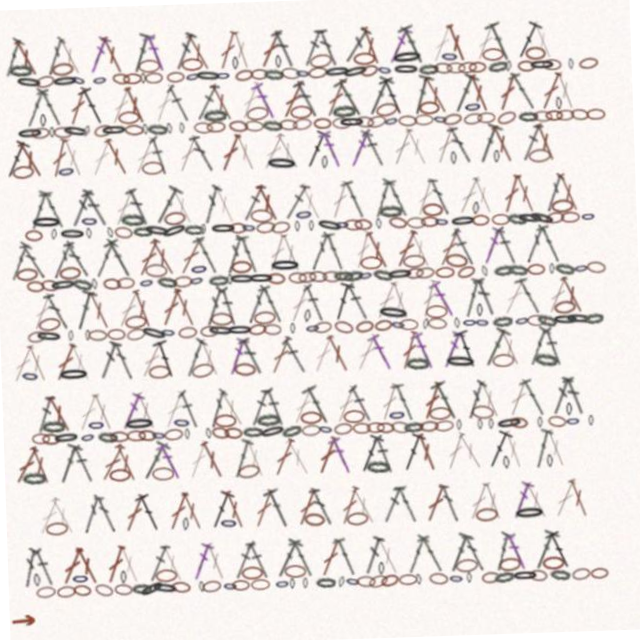chain: (129, 573, 158, 593), (377, 307, 410, 324), (163, 217, 192, 235), (139, 319, 168, 337), (531, 217, 559, 235), (400, 53, 432, 68), (271, 155, 303, 170), (443, 359, 475, 374), (350, 65, 378, 81), (319, 218, 347, 234), (120, 411, 152, 425), (255, 422, 283, 438), (507, 513, 539, 527), (68, 116, 96, 131), (146, 218, 174, 233), (34, 207, 66, 220), (271, 258, 303, 271), (56, 360, 88, 373), (189, 358, 213, 375), (532, 359, 557, 375), (23, 66, 51, 80), (142, 576, 170, 590), (382, 104, 406, 120), (232, 461, 256, 477), (318, 53, 341, 69), (447, 257, 470, 273), (492, 423, 520, 436), (536, 320, 558, 336), (277, 422, 299, 438), (203, 66, 230, 79), (332, 66, 359, 79), (520, 219, 547, 232), (51, 270, 78, 283), (35, 321, 62, 334), (207, 321, 234, 334), (565, 321, 592, 334), (49, 423, 76, 436), (253, 104, 276, 119), (17, 155, 40, 170), (167, 206, 190, 221), (38, 308, 61, 323), (554, 308, 577, 323), (468, 410, 491, 425), (447, 563, 470, 578), (490, 563, 513, 578), (210, 105, 234, 119), (339, 105, 363, 119), (503, 116, 524, 132), (333, 320, 354, 336), (253, 411, 277, 425), (359, 575, 380, 591), (297, 512, 319, 527), (60, 67, 87, 79), (23, 118, 50, 130), (62, 220, 89, 232), (453, 220, 480, 232), (388, 271, 415, 283), (552, 322, 579, 334), (60, 54, 83, 68), (232, 360, 255, 374), (458, 269, 478, 285), (85, 575, 105, 591), (43, 65, 64, 80), (496, 65, 517, 80), (373, 116, 394, 131), (73, 269, 94, 284), (17, 54, 41, 67), (124, 207, 148, 220), (382, 207, 406, 220), (404, 360, 428, 373), (38, 411, 62, 424), (17, 462, 41, 475), (361, 462, 385, 475), (534, 156, 556, 170), (254, 207, 276, 221), (555, 207, 577, 221), (18, 258, 40, 272), (61, 258, 83, 272), (147, 258, 169, 272), (125, 309, 147, 323), (211, 309, 233, 323), (254, 309, 276, 323), (39, 513, 61, 527), (340, 513, 362, 527), (469, 513, 491, 527), (368, 65, 388, 80), (100, 116, 120, 131), (391, 218, 411, 233), (207, 422, 227, 437), (371, 575, 391, 590), (401, 67, 428, 78), (537, 67, 564, 78), (107, 118, 134, 129), (345, 118, 372, 129), (213, 220, 240, 231), (230, 271, 257, 282), (249, 271, 276, 282), (226, 322, 253, 333), (503, 577, 530, 588), (158, 270, 179, 284), (344, 270, 365, 284), (374, 270, 395, 284), (556, 270, 577, 284), (485, 576, 506, 590), (147, 54, 169, 67), (190, 54, 212, 67), (362, 54, 384, 67), (491, 54, 513, 67), (125, 105, 147, 118), (297, 105, 319, 118), (147, 156, 169, 169), (362, 258, 384, 271), (405, 258, 427, 271), (426, 309, 448, 322), (147, 360, 169, 373), (491, 360, 513, 373), (211, 411, 233, 424), (297, 411, 319, 424), (340, 411, 362, 424), (426, 411, 448, 424), (104, 462, 126, 475), (147, 462, 169, 475), (147, 564, 169, 577), (233, 564, 255, 577), (276, 564, 298, 577), (534, 564, 556, 577), (19, 359, 38, 374), (449, 117, 469, 131), (470, 117, 490, 131), (274, 219, 294, 233), (126, 321, 146, 335), (387, 423, 407, 437), (534, 54, 555, 67), (426, 105, 447, 118), (426, 207, 447, 220), (510, 219, 531, 232), (233, 258, 254, 271), (495, 270, 516, 283), (509, 270, 530, 283), (492, 321, 513, 334), (583, 321, 604, 334), (541, 576, 562, 589), (449, 54, 468, 68), (243, 66, 262, 80), (62, 156, 81, 170), (298, 207, 317, 221), (117, 219, 136, 233), (355, 321, 374, 335), (169, 411, 188, 425), (289, 66, 309, 79), (316, 66, 336, 79), (466, 66, 486, 79), (587, 66, 607, 79), (235, 117, 255, 130), (299, 117, 319, 130), (259, 219, 279, 232), (417, 270, 437, 283), (588, 270, 608, 283), (427, 321, 447, 334), (160, 423, 180, 436), (162, 576, 182, 589), (193, 576, 213, 589), (420, 576, 440, 589), (78, 65, 95, 80), (471, 105, 489, 119), (192, 258, 210, 272), (213, 513, 231, 527), (120, 66, 139, 79), (442, 66, 461, 79), (362, 117, 381, 130), (577, 117, 596, 130), (549, 219, 568, 232), (42, 270, 61, 283), (310, 270, 329, 283), (407, 270, 426, 283), (27, 321, 46, 334), (248, 321, 267, 334), (313, 321, 332, 334), (374, 321, 393, 334), (134, 423, 153, 436), (330, 423, 349, 436), (506, 423, 525, 436), (544, 423, 563, 436), (64, 576, 83, 589), (520, 576, 539, 589), (563, 576, 582, 589), (272, 67, 292, 79), (427, 67, 447, 79), (154, 118, 174, 130), (200, 118, 220, 130), (269, 118, 289, 130), (210, 271, 230, 283), (94, 424, 114, 436), (400, 424, 420, 436), (27, 577, 47, 589), (84, 207, 102, 220), (84, 411, 102, 424), (385, 411, 403, 424), (63, 564, 81, 577), (60, 118, 79, 130), (131, 118, 150, 130), (251, 118, 270, 130), (339, 118, 358, 130), (405, 118, 424, 130), (540, 118, 559, 130), (347, 220, 366, 232), (357, 220, 376, 232), (410, 220, 429, 232), (104, 271, 123, 283), (175, 271, 194, 283), (268, 271, 287, 283), (324, 271, 343, 283), (88, 322, 107, 334), (178, 322, 197, 334), (106, 424, 125, 436), (220, 424, 239, 436), (298, 424, 317, 436), (416, 424, 435, 436), (431, 424, 450, 436), (48, 577, 67, 589), (105, 577, 124, 589), (348, 577, 367, 589), (525, 118, 545, 129), (136, 220, 156, 231), (187, 220, 207, 231), (335, 271, 355, 282), (239, 424, 259, 435), (123, 577, 143, 588), (307, 577, 327, 588), (526, 67, 544, 79), (38, 118, 56, 130), (286, 118, 304, 130), (28, 220, 46, 232), (28, 271, 46, 283), (290, 271, 308, 283), (300, 271, 318, 283), (263, 322, 281, 334), (38, 424, 56, 436), (373, 424, 391, 436), (473, 577, 491, 589), (131, 67, 150, 78), (455, 67, 474, 78), (551, 67, 570, 78), (213, 118, 232, 129), (421, 118, 440, 129), (593, 118, 612, 129), (564, 220, 583, 231), (437, 271, 456, 282), (399, 322, 418, 333), (527, 322, 546, 333), (123, 424, 142, 435), (242, 577, 261, 588), (390, 577, 409, 588), (193, 66, 209, 79), (385, 66, 401, 79), (390, 117, 406, 130), (439, 117, 455, 130), (244, 219, 260, 232), (190, 270, 206, 283), (160, 321, 176, 334), (390, 321, 406, 334), (514, 321, 530, 334), (76, 423, 92, 436), (314, 423, 330, 436), (336, 576, 352, 589), (153, 67, 171, 78), (175, 67, 193, 78), (259, 67, 277, 78), (477, 67, 495, 78), (320, 118, 338, 129), (484, 118, 502, 129), (552, 118, 570, 129), (563, 118, 581, 129), (232, 220, 250, 231), (424, 220, 442, 231), (475, 220, 493, 231), (495, 220, 513, 231), (118, 271, 136, 282), (529, 271, 547, 282), (107, 322, 125, 333), (200, 322, 218, 333), (28, 424, 46, 435), (349, 424, 367, 435), (363, 424, 381, 435), (223, 577, 241, 588), (582, 577, 600, 588), (100, 67, 116, 79), (303, 67, 319, 79), (437, 220, 453, 232), (140, 271, 156, 283), (359, 271, 375, 283), (575, 271, 591, 283), (474, 322, 490, 334), (147, 424, 163, 436), (305, 322, 320, 334), (214, 577, 229, 589), (440, 577, 455, 589), (224, 67, 239, 78), (338, 220, 353, 231), (584, 220, 599, 231), (462, 322, 477, 333), (562, 424, 577, 435), (266, 577, 281, 588), (476, 207, 483, 220), (304, 309, 311, 322), (498, 462, 505, 475), (25, 564, 32, 577), (89, 118, 97, 129), (241, 54, 247, 67), (284, 54, 290, 67), (47, 105, 53, 118), (563, 105, 569, 118), (327, 156, 333, 169), (456, 156, 462, 169), (499, 156, 505, 169), (477, 309, 483, 322), (563, 411, 569, 424), (542, 462, 548, 475), (176, 513, 182, 526), (112, 564, 118, 577), (370, 564, 376, 577), (110, 220, 117, 231), (483, 271, 490, 282), (422, 322, 429, 333), (329, 577, 336, 588), (514, 67, 520, 78), (149, 118, 155, 129), (173, 118, 179, 129), (54, 220, 60, 231), (89, 220, 95, 231), (379, 220, 385, 231), (93, 271, 99, 282), (454, 322, 460, 333), (202, 424, 208, 435), (190, 577, 196, 588), (407, 577, 413, 588), (149, 67, 154, 78), (577, 67, 582, 78), (56, 118, 61, 129), (186, 118, 191, 129), (204, 220, 209, 231), (298, 220, 303, 231), (312, 220, 317, 231), (229, 271, 234, 282), (551, 271, 556, 282), (68, 322, 73, 333), (85, 322, 90, 333), (290, 322, 295, 333), (181, 424, 186, 435), (453, 424, 458, 435), (474, 424, 479, 435), (485, 424, 490, 435), (534, 424, 539, 435), (585, 424, 590, 435), (281, 577, 286, 588), (294, 577, 299, 588), (458, 577, 463, 588)
double: (341, 78, 374, 120), (155, 180, 188, 222), (134, 435, 167, 477), (371, 78, 403, 120), (106, 231, 138, 273), (479, 333, 511, 375), (299, 384, 331, 426), (264, 537, 296, 579), (407, 27, 438, 69), (522, 27, 553, 69), (457, 78, 488, 120), (307, 129, 338, 171), (428, 384, 459, 426), (479, 435, 510, 477), (522, 537, 553, 579), (494, 27, 524, 69), (85, 78, 115, 120), (7, 129, 37, 171), (480, 129, 510, 171), (351, 435, 381, 477), (128, 486, 158, 528), (200, 486, 230, 528), (257, 486, 287, 528), (437, 537, 467, 579), (537, 537, 567, 579), (350, 28, 382, 67), (515, 78, 545, 119), (386, 78, 415, 120), (50, 435, 79, 477), (394, 435, 423, 477), (21, 130, 51, 170), (85, 181, 115, 221), (150, 232, 180, 272), (214, 385, 244, 425), (7, 436, 37, 476), (93, 436, 123, 476), (451, 436, 481, 476), (93, 231, 122, 272), (515, 282, 544, 323), (137, 27, 165, 69), (452, 333, 480, 375), (21, 28, 50, 68), (193, 28, 222, 68), (394, 28, 423, 68), (286, 79, 315, 119), (300, 79, 329, 119), (429, 79, 458, 119), (265, 130, 294, 170), (279, 130, 308, 170), (179, 232, 208, 272), (429, 283, 458, 323), (501, 283, 530, 323), (136, 334, 165, 374), (42, 385, 71, 425), (279, 436, 308, 476), (42, 487, 71, 527), (343, 487, 372, 527), (29, 78, 57, 119), (43, 78, 71, 119), (43, 180, 71, 221), (387, 180, 415, 221), (8, 231, 36, 272), (194, 231, 222, 272), (180, 333, 208, 374), (516, 384, 544, 425), (395, 537, 423, 578), (409, 537, 437, 578), (416, 78, 443, 120), (72, 282, 99, 324), (330, 282, 357, 324), (151, 333, 178, 375), (65, 28, 93, 68), (266, 28, 294, 68), (215, 79, 243, 119), (258, 79, 286, 119), (108, 130, 136, 170), (352, 130, 380, 170), (172, 181, 200, 221), (459, 181, 487, 221), (137, 232, 165, 272), (366, 232, 394, 272), (395, 232, 423, 272), (438, 232, 466, 272), (115, 283, 143, 323), (373, 283, 401, 323), (559, 283, 587, 323), (8, 334, 36, 374), (237, 334, 265, 374), (266, 334, 294, 374), (323, 334, 351, 374), (352, 334, 380, 374), (366, 334, 394, 374), (115, 385, 143, 425), (151, 436, 179, 476), (194, 436, 222, 476), (29, 487, 57, 527), (516, 487, 544, 527), (545, 487, 573, 527), (65, 538, 93, 578), (366, 538, 394, 578), (29, 180, 56, 221), (344, 180, 371, 221), (538, 231, 565, 272), (258, 282, 285, 323), (524, 333, 551, 374), (387, 486, 414, 527), (280, 537, 307, 578), (108, 28, 135, 68), (280, 28, 307, 68), (438, 28, 465, 68), (115, 79, 142, 119), (129, 79, 156, 119), (330, 79, 357, 119), (545, 79, 572, 119), (94, 130, 121, 170), (137, 130, 164, 170), (223, 130, 250, 170), (395, 130, 422, 170), (409, 130, 436, 170), (495, 130, 522, 170), (72, 181, 99, 221), (115, 181, 142, 221), (129, 181, 156, 221), (215, 181, 242, 221), (258, 181, 285, 221), (301, 181, 328, 221), (409, 232, 436, 272), (86, 283, 113, 323), (172, 283, 199, 323), (287, 283, 314, 323), (545, 283, 572, 323), (51, 334, 78, 374), (309, 334, 336, 374), (409, 334, 436, 374), (438, 334, 465, 374), (72, 385, 99, 425), (158, 385, 185, 425), (287, 385, 314, 425), (330, 385, 357, 425), (108, 436, 135, 476), (266, 436, 293, 476), (323, 436, 350, 476), (115, 487, 142, 527), (416, 487, 443, 527), (459, 487, 486, 527), (51, 538, 78, 578), (151, 538, 178, 578), (309, 538, 336, 578), (495, 538, 522, 578), (9, 27, 35, 68), (95, 27, 121, 68), (181, 27, 207, 68), (482, 27, 508, 68), (539, 27, 565, 68), (159, 78, 185, 119), (245, 78, 271, 119), (181, 129, 207, 170), (238, 129, 264, 170), (324, 129, 350, 170), (374, 180, 400, 221), (474, 180, 500, 221), (560, 180, 586, 221), (482, 231, 508, 272), (30, 282, 56, 323), (159, 282, 185, 323), (23, 333, 49, 374), (66, 333, 92, 374), (95, 333, 121, 374), (195, 333, 221, 374), (496, 333, 522, 374), (87, 384, 113, 425), (130, 384, 156, 425), (388, 384, 414, 425), (474, 384, 500, 425), (503, 384, 529, 425), (546, 384, 572, 425), (181, 435, 207, 476), (224, 435, 250, 476), (310, 435, 336, 476), (159, 486, 185, 527), (173, 486, 199, 527), (245, 486, 271, 527), (288, 486, 314, 527), (503, 486, 529, 527), (181, 537, 207, 578), (324, 537, 350, 578), (287, 182, 315, 220), (22, 232, 49, 271), (44, 283, 70, 323), (280, 335, 307, 373), (152, 27, 177, 68), (453, 27, 478, 68), (73, 78, 98, 119), (474, 78, 499, 119), (503, 78, 528, 119), (66, 129, 91, 170), (439, 129, 464, 170), (539, 129, 564, 170), (417, 180, 442, 221), (517, 180, 542, 221), (238, 231, 263, 272), (267, 231, 292, 272), (281, 231, 306, 272), (324, 231, 349, 272), (460, 282, 485, 323), (474, 282, 499, 323), (224, 333, 249, 374), (417, 384, 442, 425), (560, 384, 585, 425), (23, 435, 48, 476), (238, 435, 263, 476), (410, 435, 435, 476), (439, 435, 464, 476), (525, 435, 550, 476), (539, 435, 564, 476), (216, 486, 241, 527), (331, 486, 356, 527), (560, 486, 585, 527), (95, 537, 120, 578), (109, 537, 134, 578), (195, 537, 220, 578), (353, 537, 378, 578), (173, 79, 199, 118), (202, 79, 228, 118), (245, 181, 271, 220), (52, 232, 78, 271), (66, 232, 92, 271), (453, 232, 479, 271), (345, 283, 371, 322), (345, 385, 371, 424), (195, 130, 220, 170), (453, 130, 478, 170), (224, 232, 249, 272), (202, 283, 227, 323), (460, 385, 485, 425), (225, 27, 249, 68), (368, 27, 392, 68), (561, 78, 585, 119), (332, 180, 356, 221), (504, 180, 528, 221), (131, 282, 155, 323), (389, 282, 413, 323), (375, 384, 399, 425), (497, 435, 521, 476), (475, 486, 499, 527), (483, 537, 507, 578), (367, 130, 392, 169), (310, 232, 335, 271), (525, 232, 550, 271), (245, 283, 270, 322), (66, 436, 91, 475), (238, 538, 263, 577), (203, 181, 227, 221), (303, 487, 327, 527), (239, 27, 262, 68), (354, 231, 377, 272), (397, 333, 420, 374), (526, 130, 550, 169), (497, 232, 521, 271), (303, 283, 327, 322), (174, 385, 198, 424), (375, 487, 399, 526), (24, 538, 48, 577), (139, 538, 163, 577), (454, 538, 478, 577), (246, 385, 269, 425), (368, 436, 391, 476), (54, 129, 76, 170), (419, 282, 441, 323), (53, 28, 76, 67), (311, 28, 334, 67), (432, 181, 455, 220), (547, 181, 570, 220), (74, 487, 97, 526), (88, 487, 111, 526), (225, 538, 248, 577), (111, 334, 133, 374), (541, 334, 563, 374), (204, 385, 226, 425), (261, 385, 283, 425), (326, 28, 347, 68), (154, 130, 175, 170), (32, 385, 53, 425), (433, 487, 454, 527), (11, 538, 32, 578), (219, 283, 239, 323)
noise: (1, 605, 27, 616)
